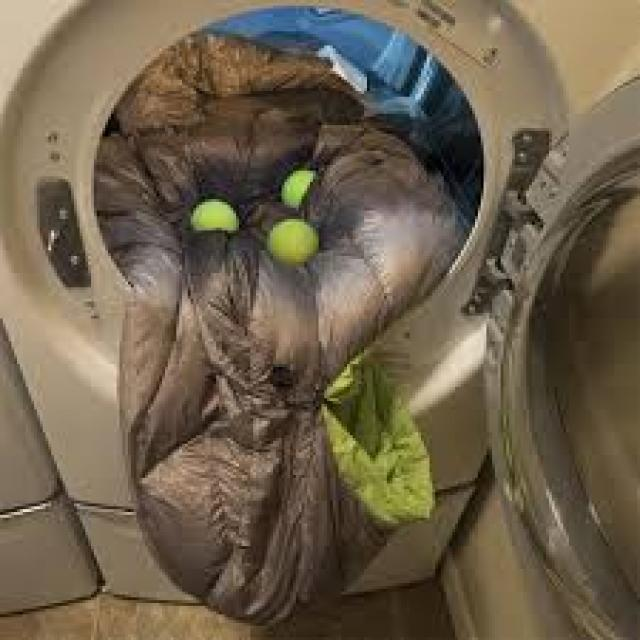tennis-ball: (268, 219, 322, 263), (190, 198, 242, 235), (282, 167, 323, 207)
